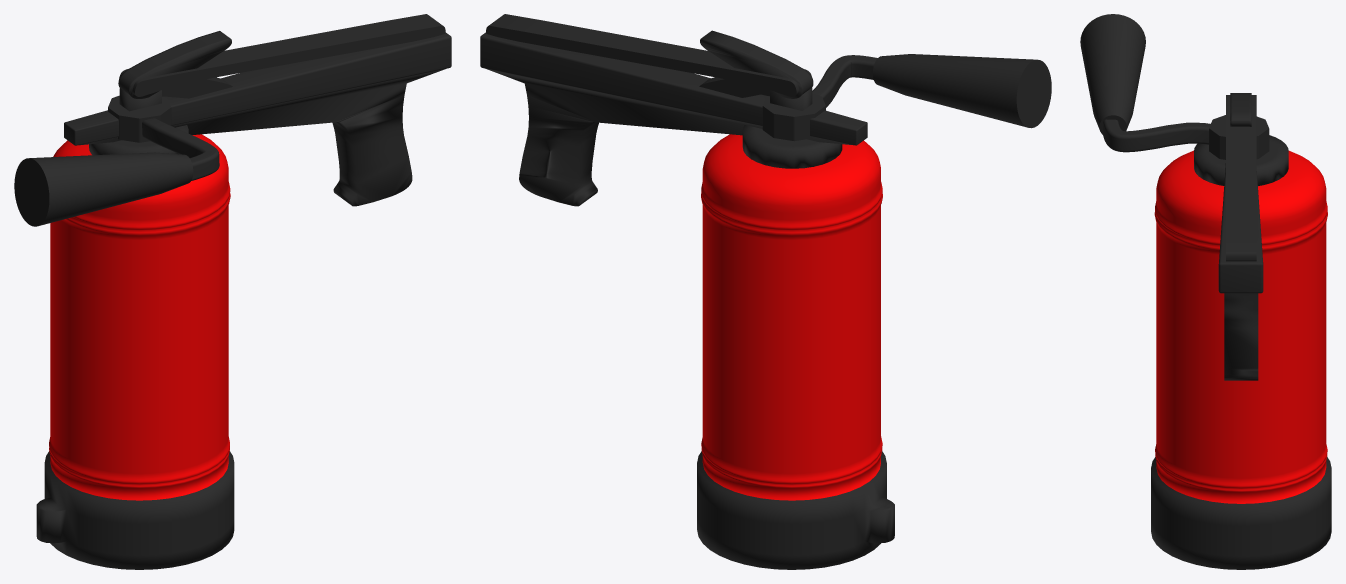
Rendered from Feuerlöscher 1.fbx.
3 renders of one model, left to right at view 1: azimuth 30°, elevation 25°; view 2: azimuth 150°, elevation 25°; view 3: azimuth 270°, elevation 25°, orthographic. The views are drawn at different scales.
Visible parts, largest first — view 1: Deckfläche 1; view 2: Deckfläche 1; view 3: Deckfläche 1.
Part boxes in pixels (x1,y1,x2,y2): Deckfläche 1: (14, 14, 451, 569); Deckfläche 1: (480, 14, 1051, 569); Deckfläche 1: (1080, 14, 1331, 569).
Size of the model in its own units: 155 by 147 by 74.03.
